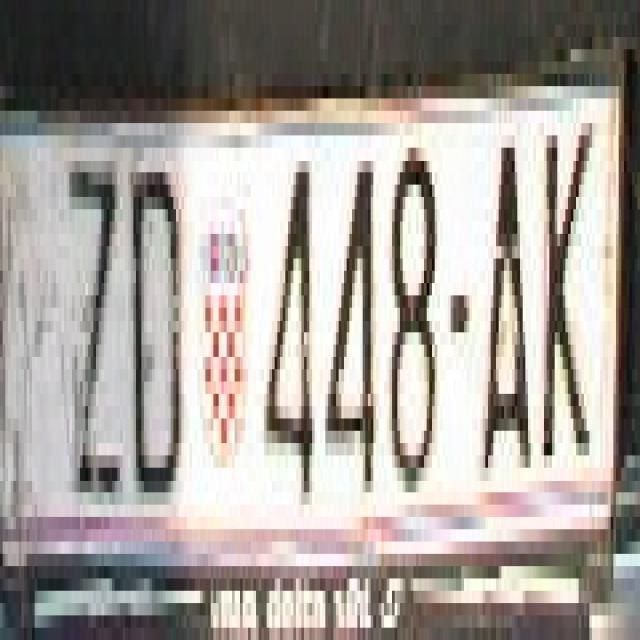4: (261, 148, 320, 517), (322, 160, 378, 505)
8: (384, 135, 437, 492)
A: (472, 99, 534, 468)
D: (125, 111, 184, 517)
K: (538, 111, 594, 492)
Z: (61, 135, 120, 492)
